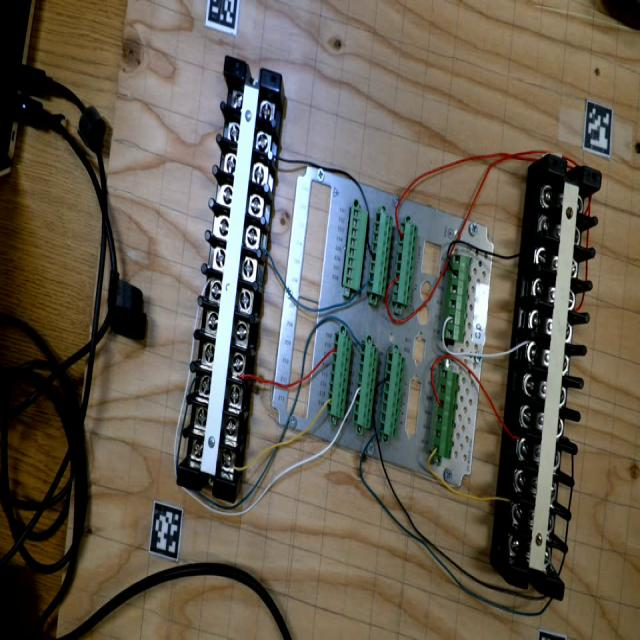Flathead_Block: (506, 155, 605, 601)
Phillips_Block: (175, 56, 284, 504)
Terminal_1: (431, 368, 460, 460), (444, 254, 471, 343)
Terminal_2: (377, 351, 406, 439), (366, 211, 394, 297), (391, 221, 419, 306), (352, 342, 379, 430), (326, 331, 353, 418)
